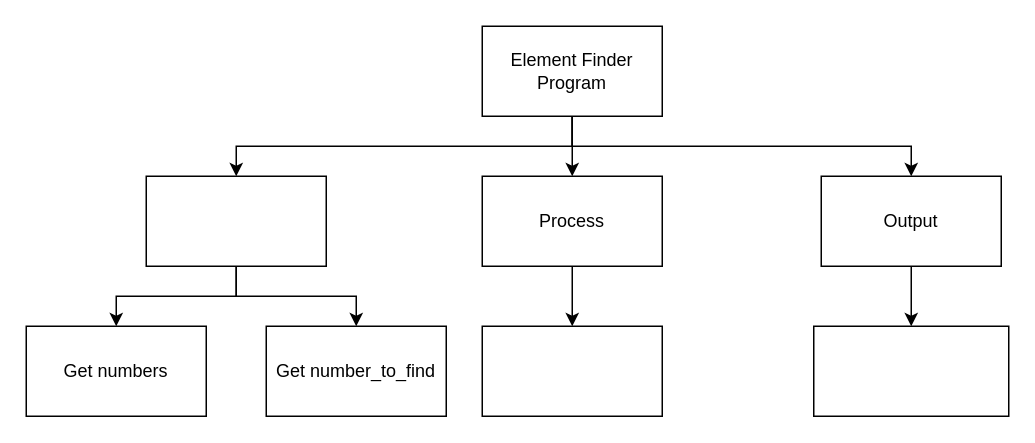
Image size: 1035x443. Some labels were removed from this diagram. The shapes that lost their labels are listed below. From the top down, each one's box as (x1, y1, x2, y2) in pixels, then its label:
(145, 175, 326, 266): Input
(481, 325, 662, 416): Check if element is inside the list
(812, 325, 1009, 416): Print if it is inside the list or not accordingly
